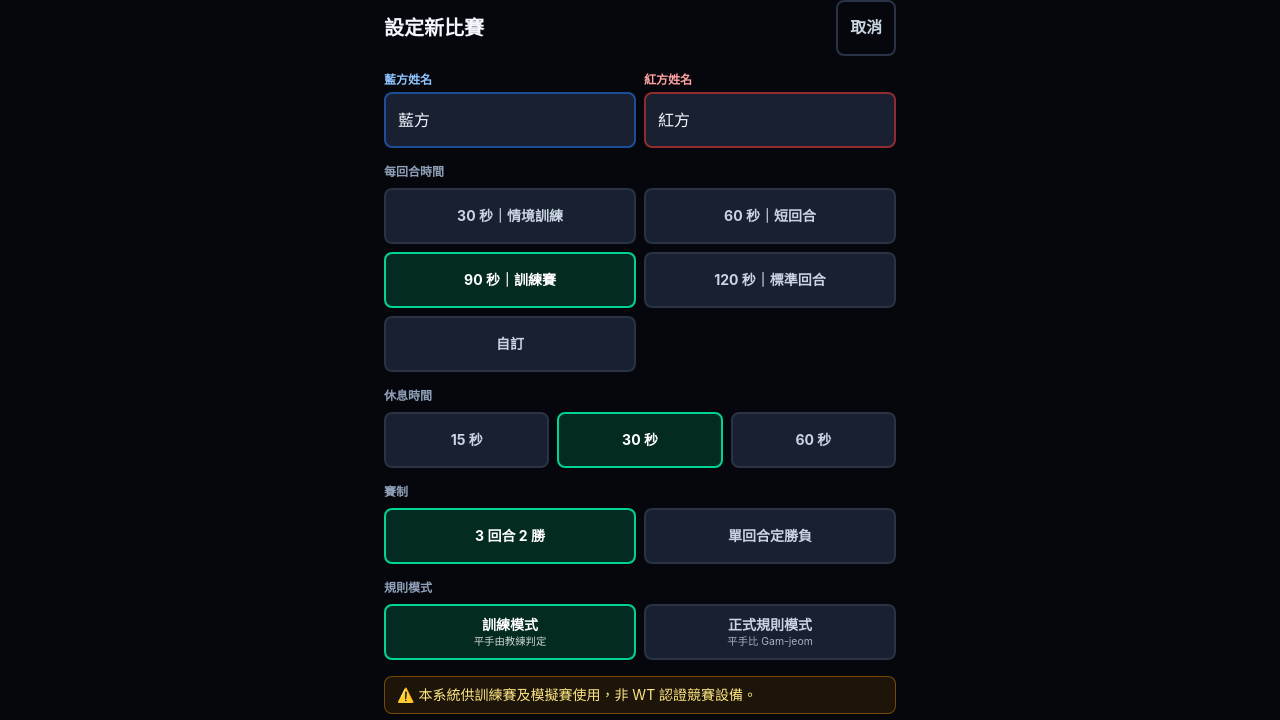
Test: 單機計分頁：開賽流程與資料恢復 › ?setup=1 進入設定新比賽，可設定姓名後直接開賽
Replace the text in the field labelled "藍方姓名" with "王小明" at coordinates (510, 120), box [384,92,636,148]
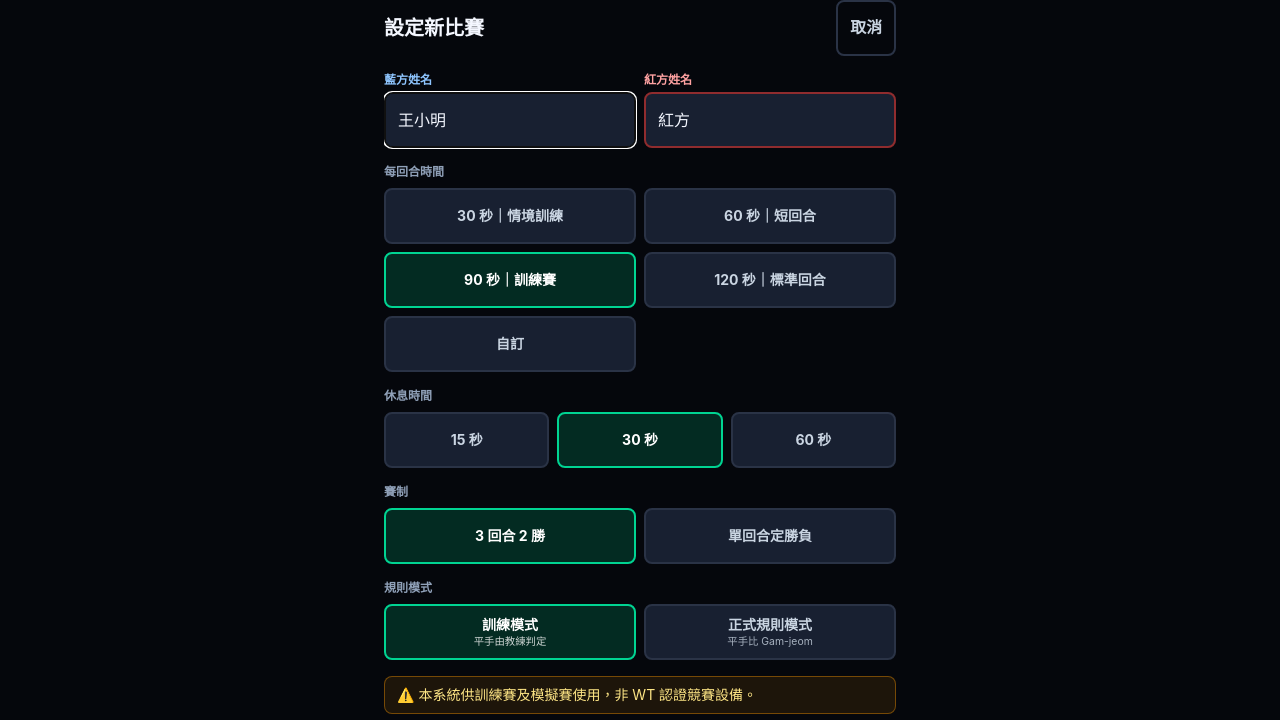
Click the button "90 秒｜訓練賽" at coordinates (510, 280), box [384,252,636,308]
(page scrolled)
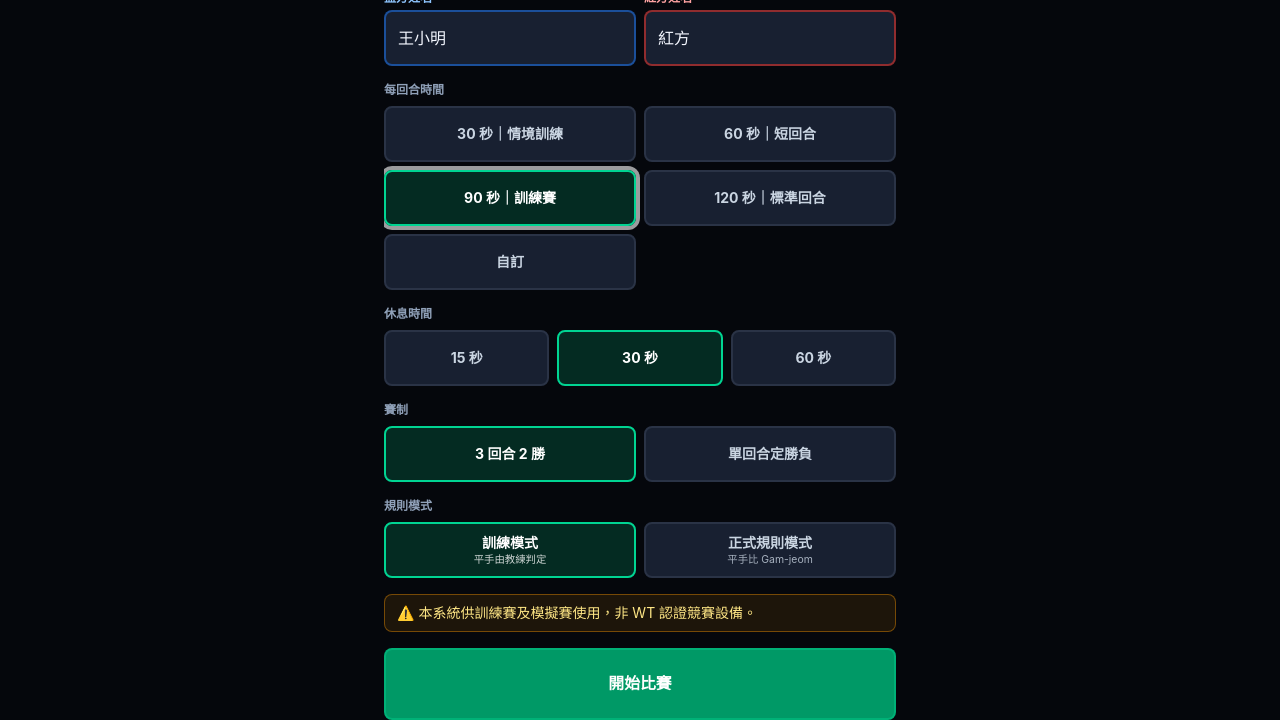
Click the button "開始比賽" at coordinates (640, 684), box [384,648,896,719]
(page scrolled)
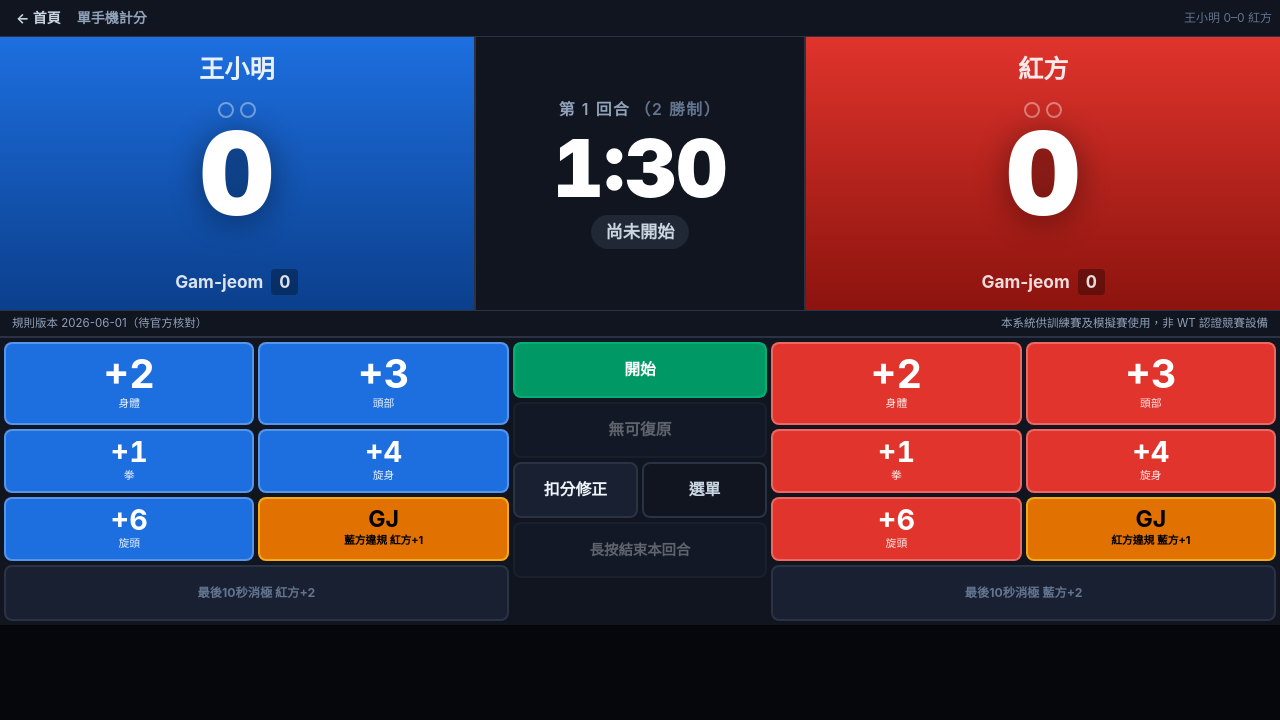
Now the heading "王小明" is shown, box [199,54,275,84]
Now the button "開始" is shown, box [513,342,767,398]
